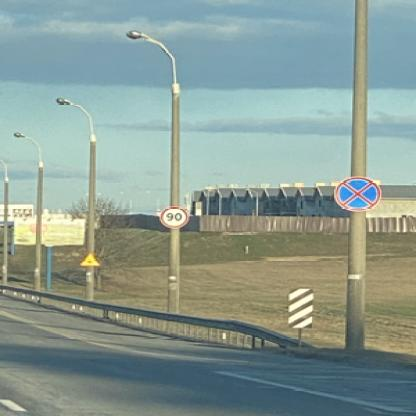Speed Limit 90: (159, 206, 188, 230)
